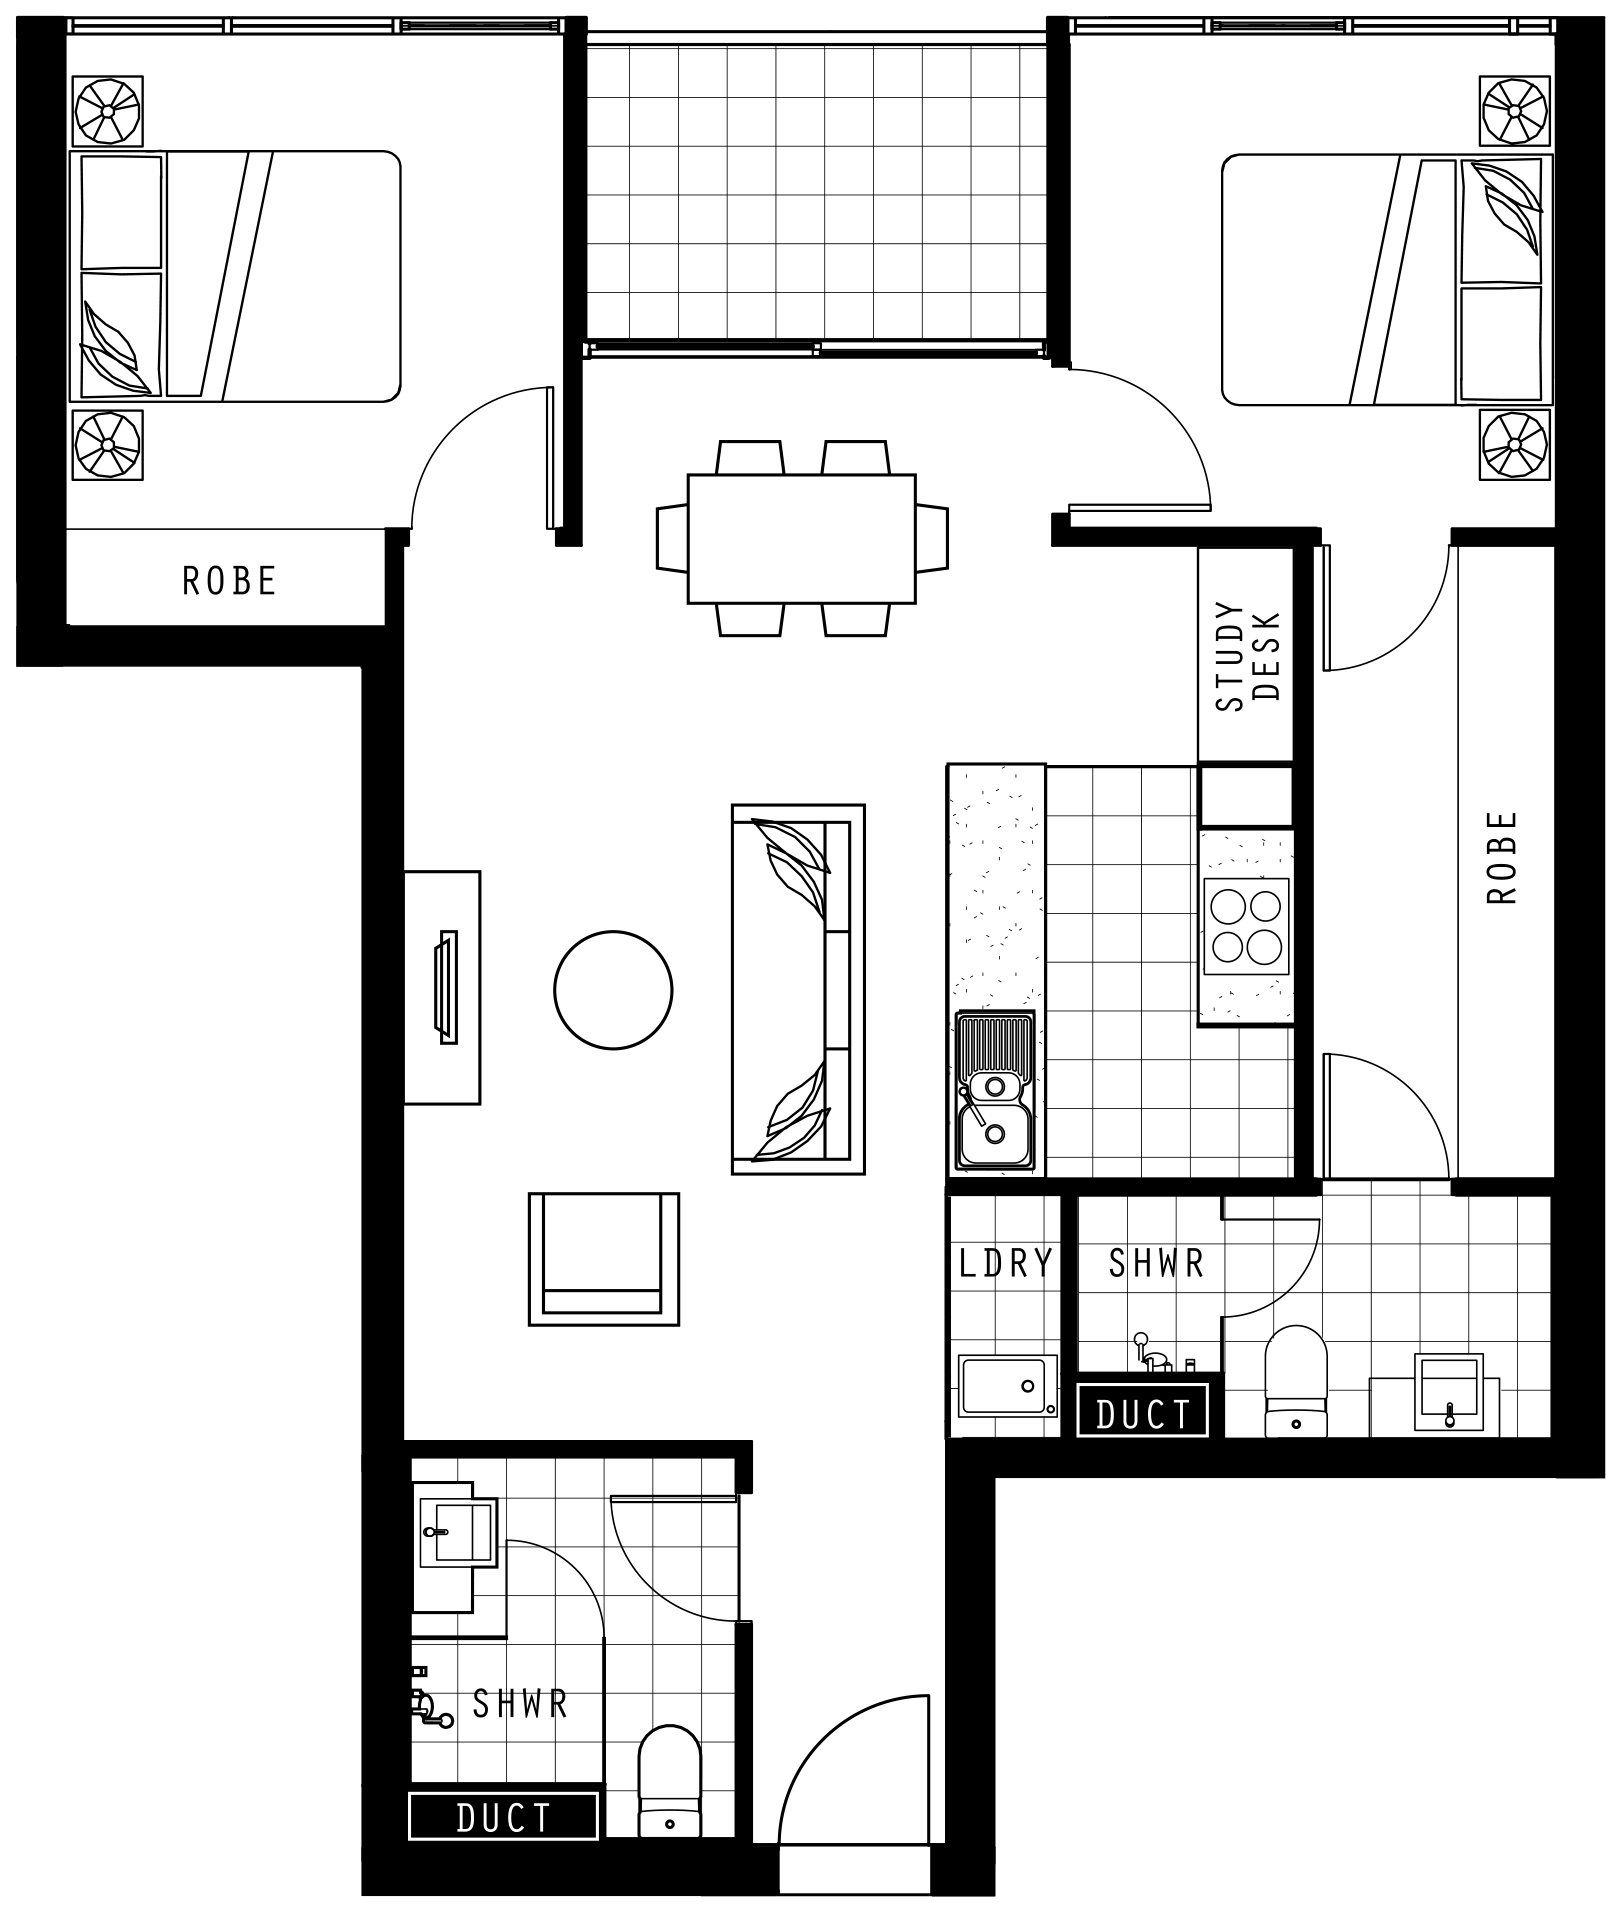wall: (1542, 521, 1621, 1185), (355, 658, 408, 1465), (1549, 24, 1621, 550), (14, 13, 64, 659), (941, 1433, 1611, 1479), (349, 1442, 412, 1912), (946, 1442, 999, 1912), (14, 614, 413, 667), (1549, 1163, 1611, 1446), (1291, 521, 1317, 1188), (558, 27, 597, 363), (1055, 513, 1311, 556), (388, 1439, 761, 1465), (1049, 18, 1076, 363), (946, 1177, 1317, 1198), (728, 1621, 764, 1836), (1446, 1174, 1552, 1208), (1452, 532, 1561, 555)
